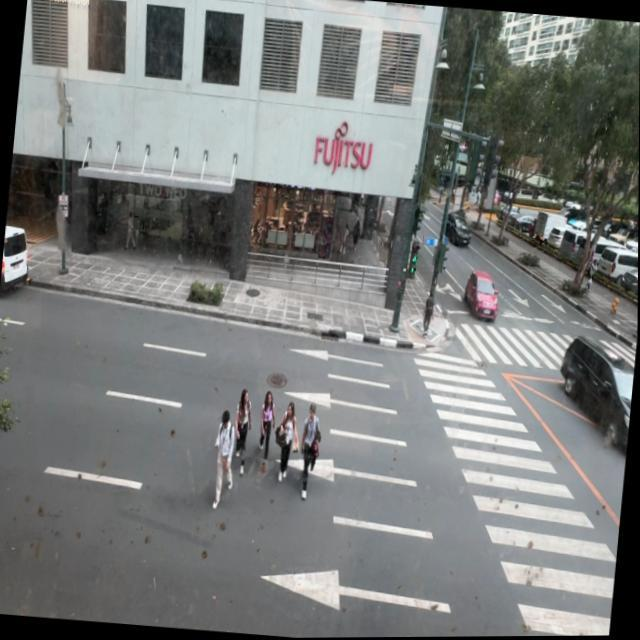jaywalking: (205, 406, 242, 510), (272, 395, 302, 491), (295, 403, 322, 499), (228, 382, 256, 473), (256, 389, 278, 461)
